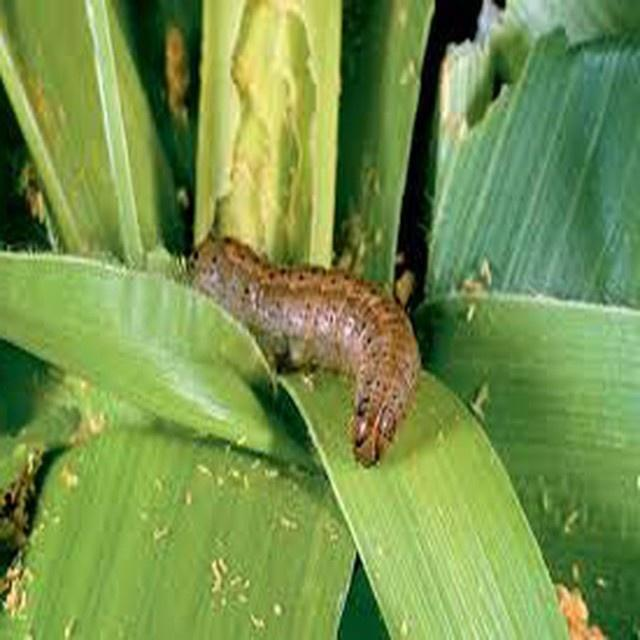gusano_cogollero: (184, 223, 423, 469)
